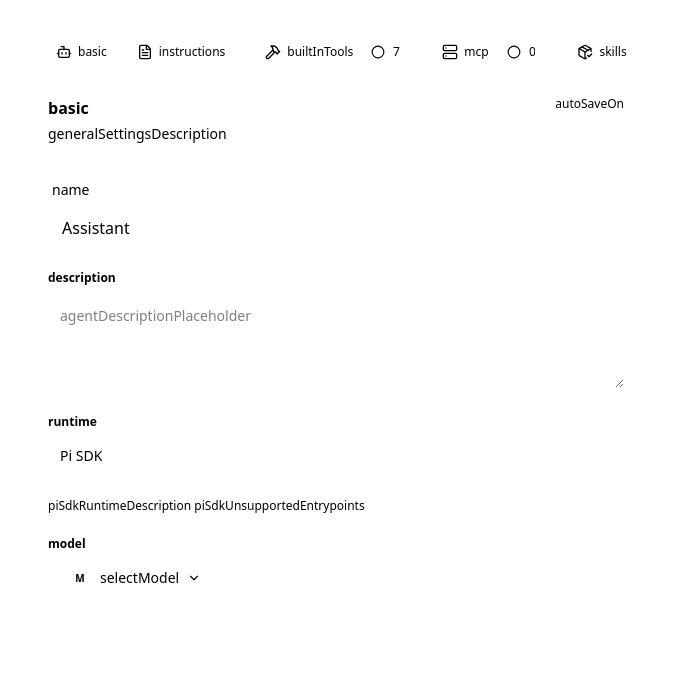
it: agent configuration mutation feedback › translates pi_package_unknown autosave failures and keeps unsaved state
This screenshot has width=689, height=695.
Replace the text in the field labelled "name" with "Changed": [336, 228] box [48, 206, 624, 250]
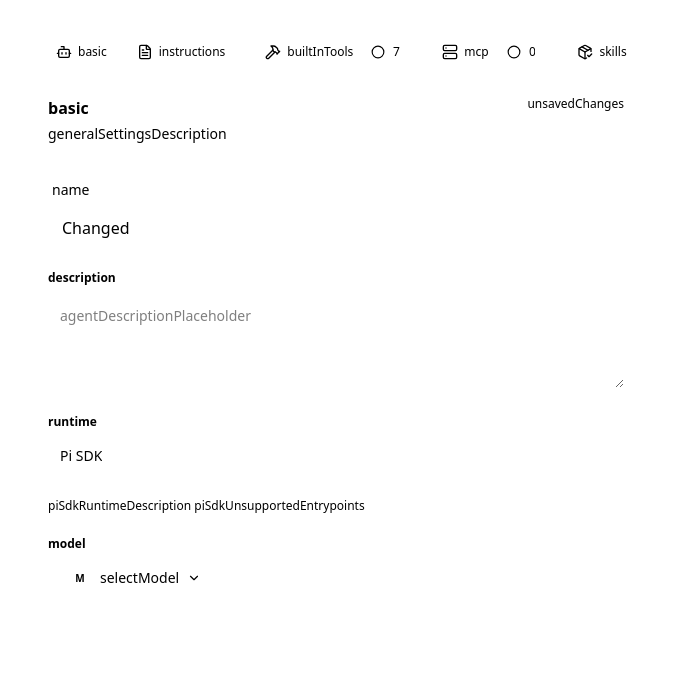
Leave the field labelled "name", box [48, 206, 624, 250]
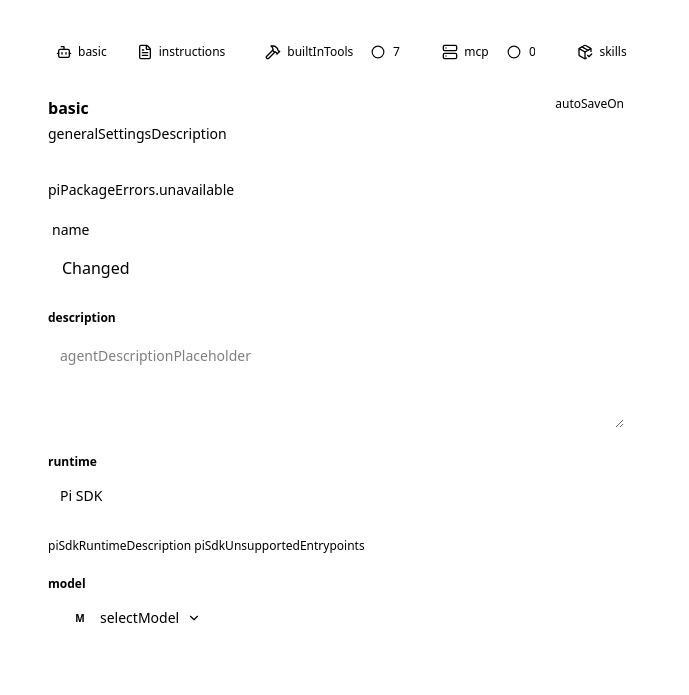
Now the message "piPackageErrors.unavailable" is shown, box [48, 180, 234, 199]
